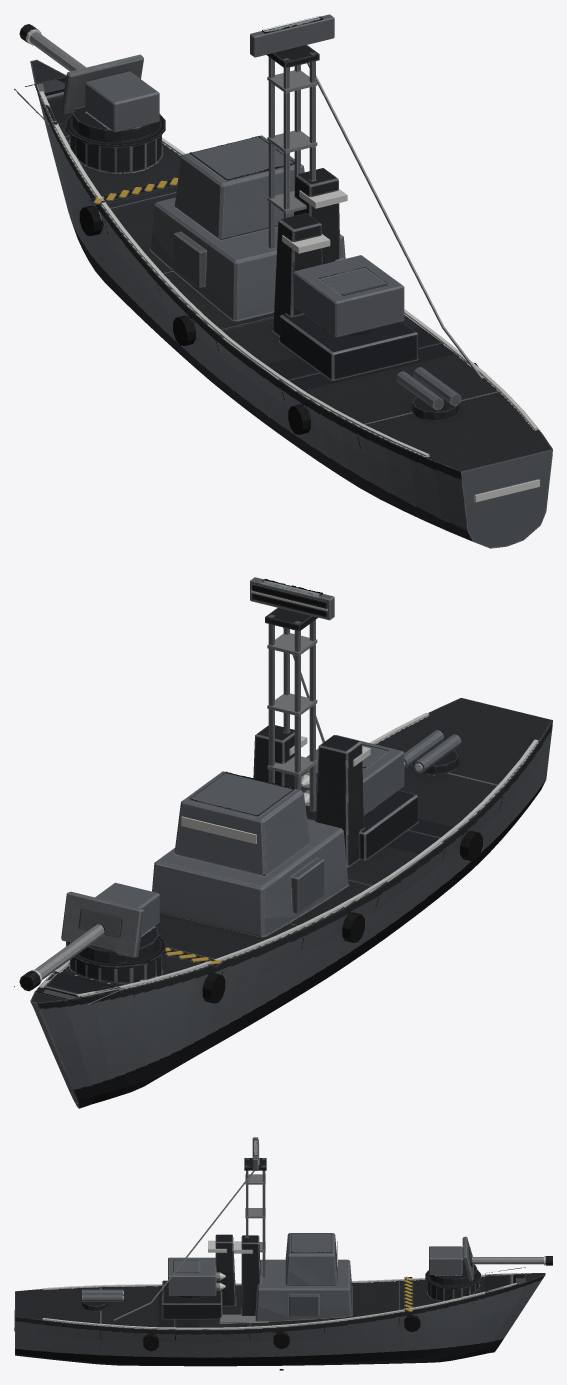
Rendered from chs_corsair.fbx.
The picture shows the model from 3 angles, top to bottom: view 1: azimuth 30°, elevation 25°; view 2: azimuth 150°, elevation 25°; view 3: azimuth 270°, elevation 25°; orthographic projection. The views are drawn at different scales.
Visible parts, largest first — view 1: base_bar, turret1_bar, launcher_bar, base_glow_running_bar, radar_bar, turret2_bar; view 2: base_bar, turret1_bar, base_glow_running_bar, launcher_bar, radar_bar, turret2_bar; view 3: base_bar, turret1_bar, base_glow_running_bar, launcher_bar, turret2_bar.
Boxes of the visible parts, x1=… form: base_bar: x1=14, y1=45, x2=552, y2=548; turret1_bar: x1=19, y1=24, x2=159, y2=142; launcher_bar: x1=293, y1=255, x2=404, y2=337; base_glow_running_bar: x1=39, y1=91, x2=539, y2=502; radar_bar: x1=250, y1=14, x2=334, y2=57; turret2_bar: x1=396, y1=367, x2=461, y2=420; base_bar: x1=14, y1=608, x2=552, y2=1108; turret1_bar: x1=19, y1=882, x2=159, y2=991; base_glow_running_bar: x1=39, y1=712, x2=538, y2=997; launcher_bar: x1=301, y1=735, x2=404, y2=815; radar_bar: x1=250, y1=577, x2=334, y2=620; turret2_bar: x1=404, y1=730, x2=461, y2=774; base_bar: x1=15, y1=1158, x2=545, y2=1366; turret1_bar: x1=429, y1=1236, x2=552, y2=1286; base_glow_running_bar: x1=14, y1=1240, x2=516, y2=1331; launcher_bar: x1=168, y1=1257, x2=219, y2=1298; turret2_bar: x1=82, y1=1289, x2=123, y2=1311.
Size of the model in its own units: 626 by 1315 by 2891.
Materials: 2 (2 with a texture image).
